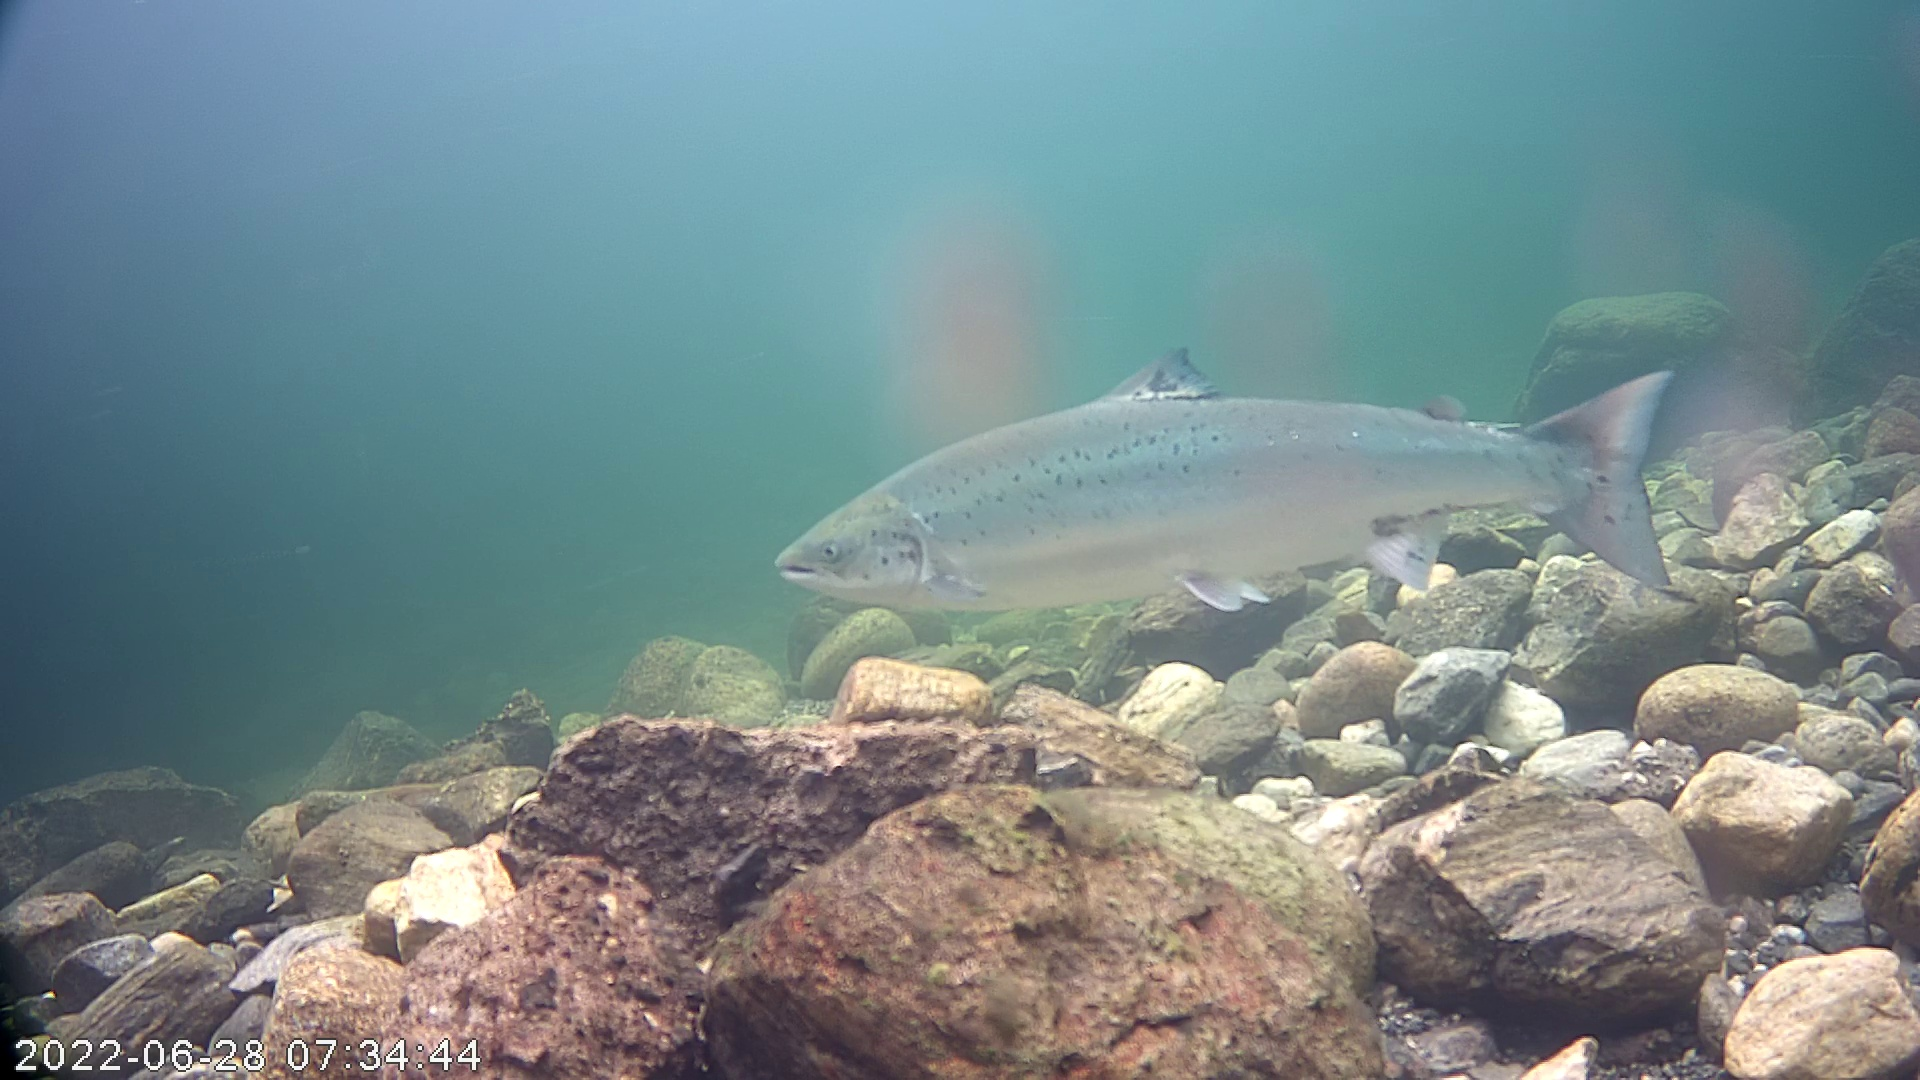salmon: (764, 257, 1702, 673)
